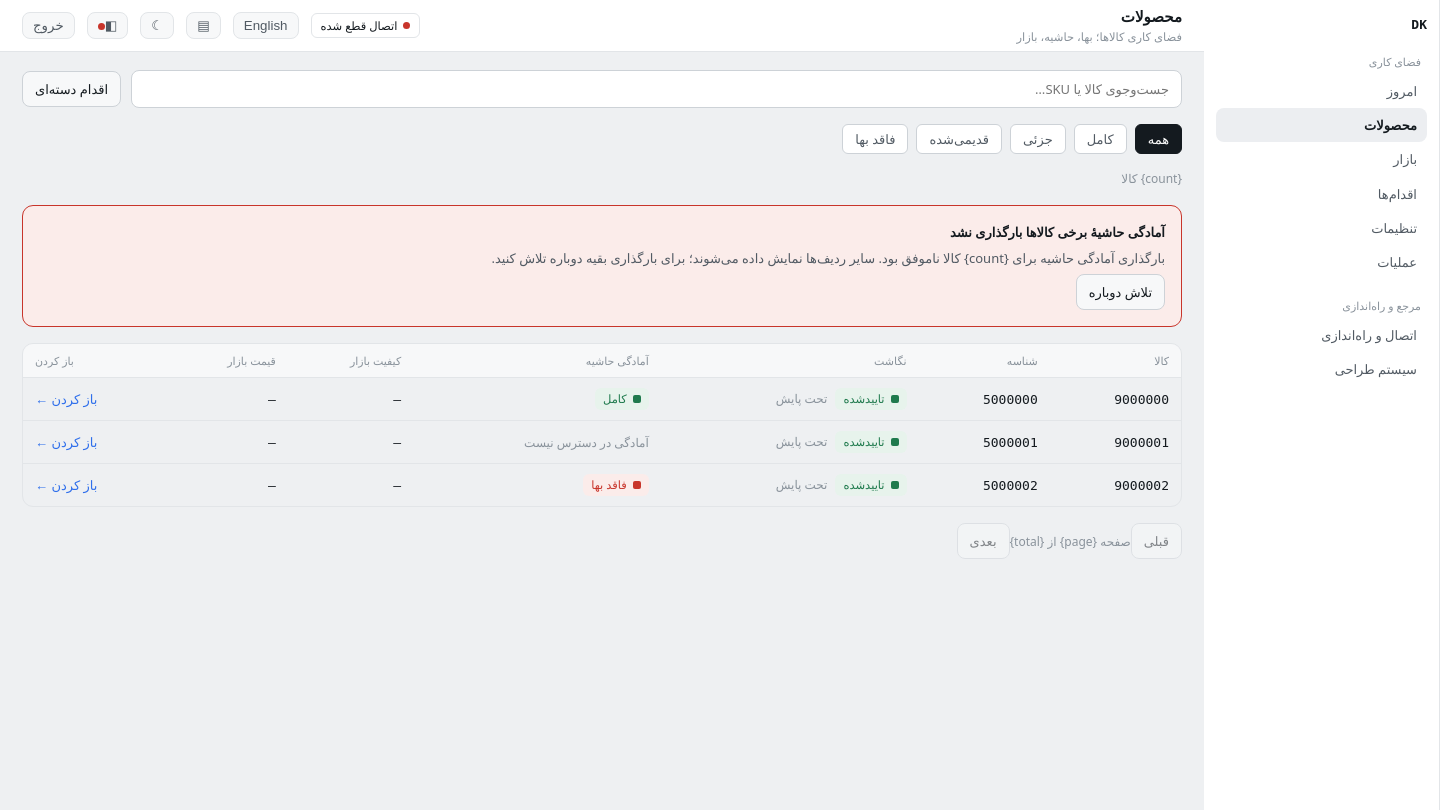
Test: Products workspace › keeps degraded rows and retries only the failed readiness under an active filter
The image size is (1440, 810).
Expected: the text "5000000" is shown, 983,392 -> 1038,407
Step 1. Click the button "کامل" → (1100, 139), box 1074,124 -> 1127,154
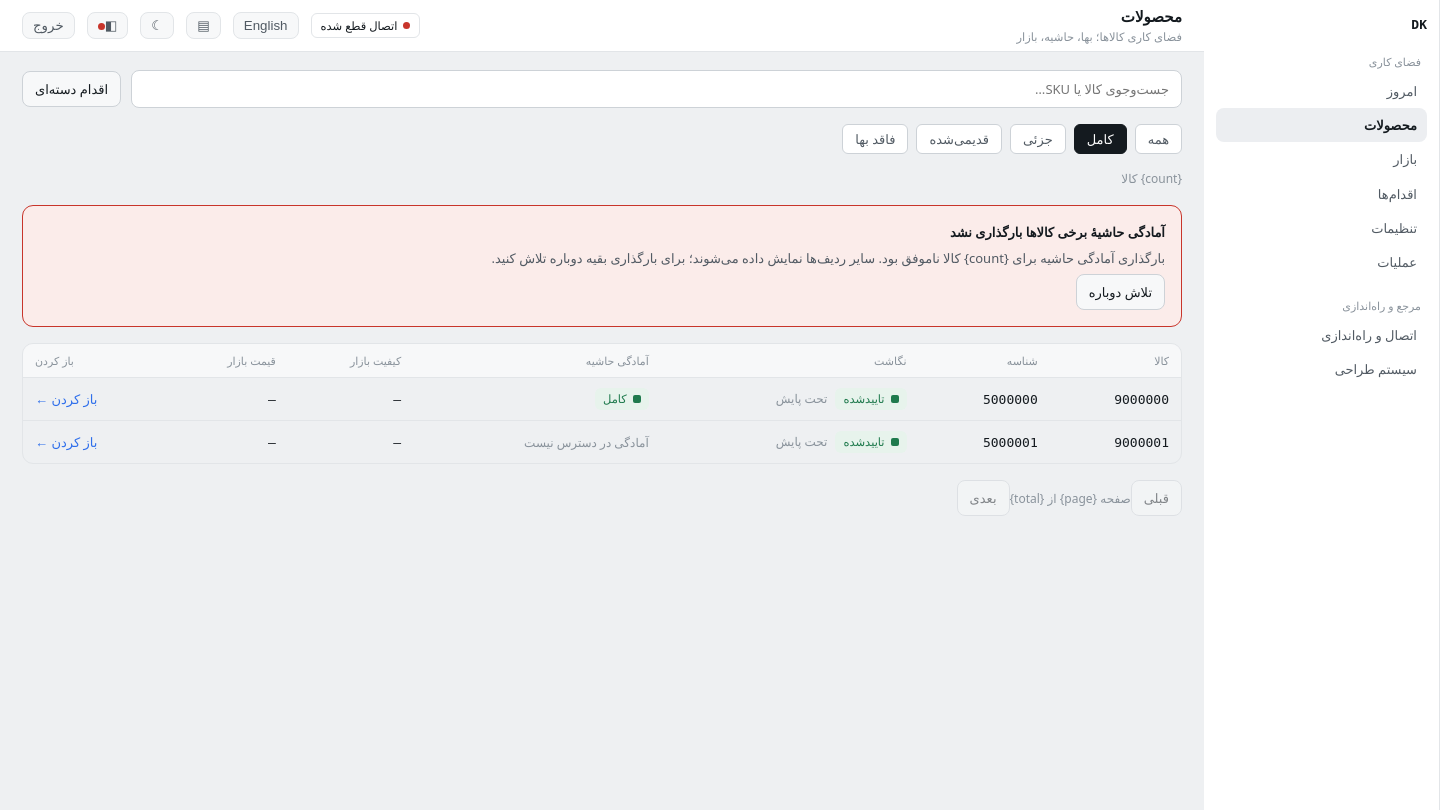
Expected: the text "آمادگی در دسترس نیست" is shown, 524,434 -> 649,451
Step 2. Click the button "تلاش دوباره" → (1120, 292), box 1076,274 -> 1165,310
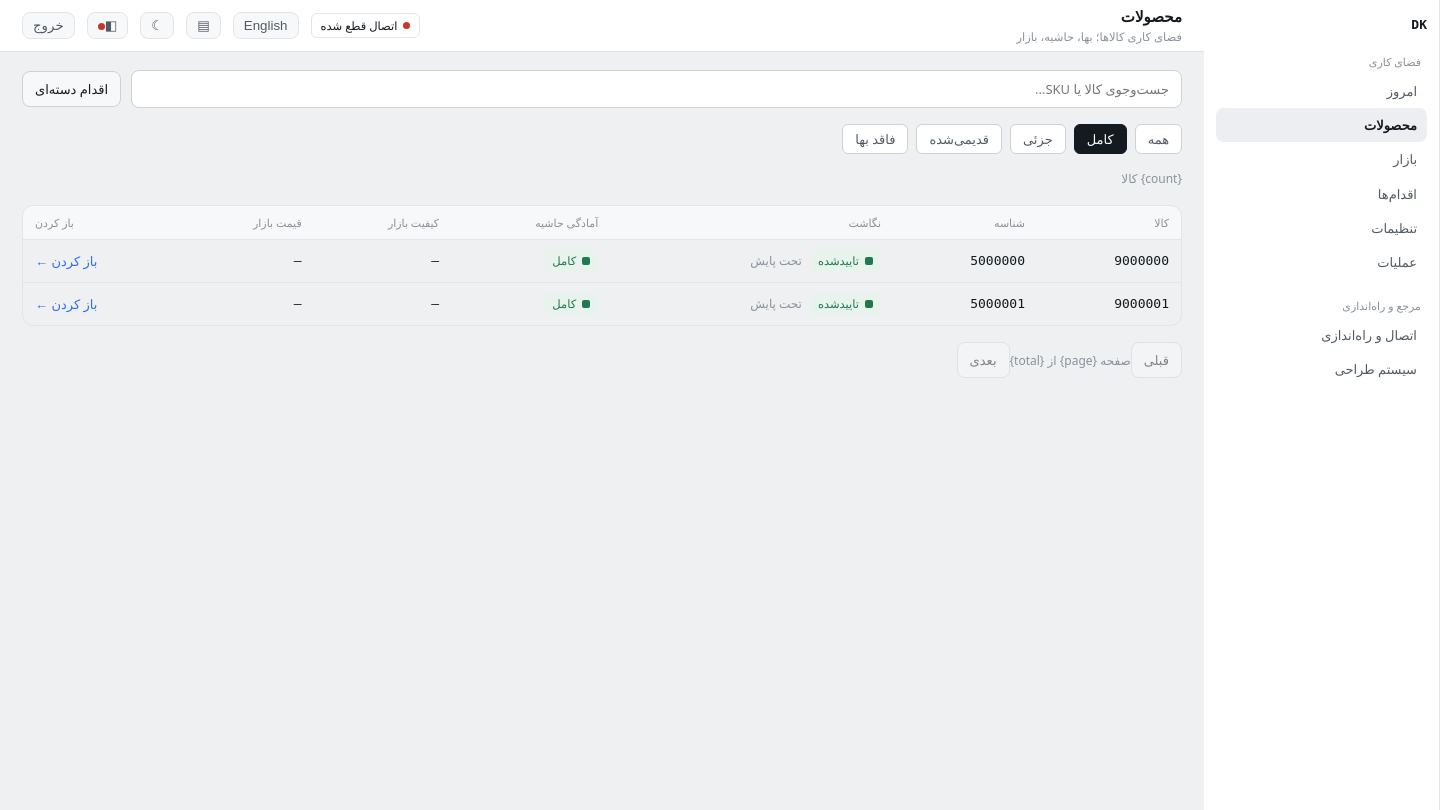
Now the message with test id "products-readiness-error" is gone
Now the text "آمادگی در دسترس نیست" is gone
